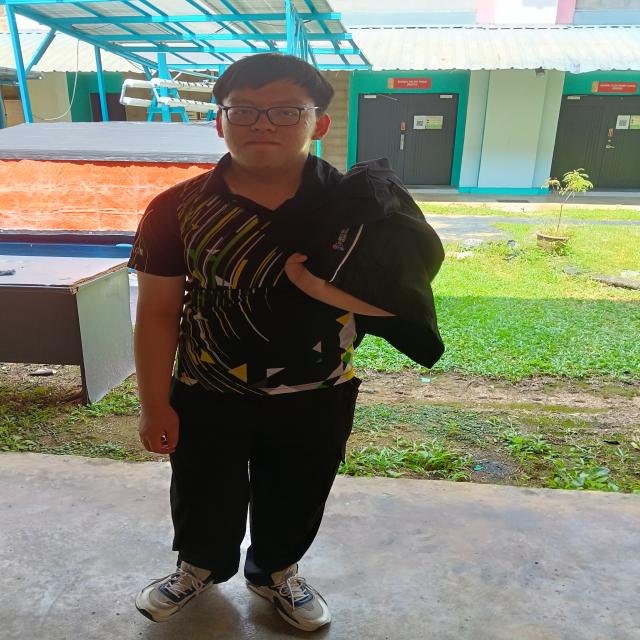person_without_labcoat: (130, 54, 443, 631)
